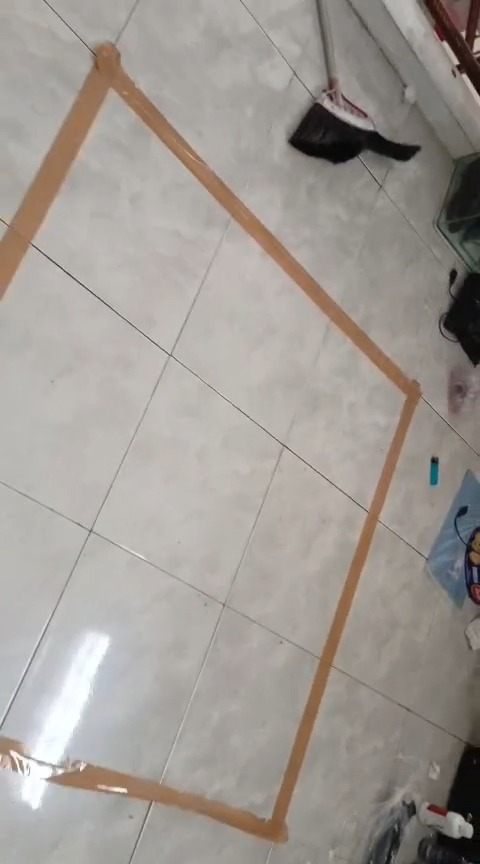floor marking: (0, 43, 420, 842)
